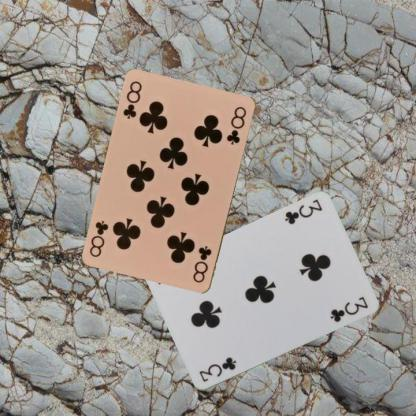3c: (282, 197, 324, 227), (197, 354, 238, 384)
8c: (120, 78, 143, 121), (190, 244, 213, 284)
